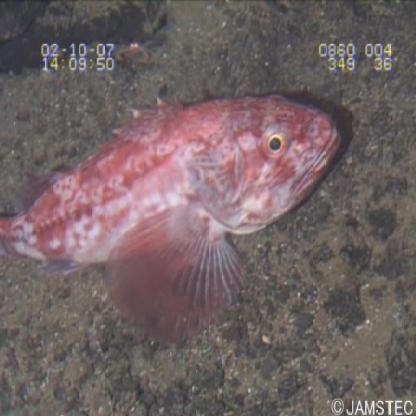Bio: (1, 84, 348, 357)
